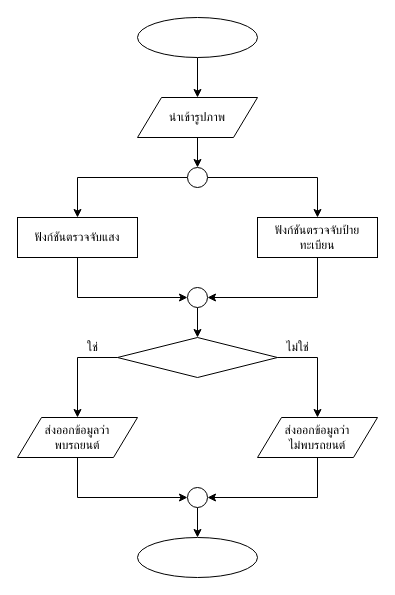
Image size: 395x595. Some labels were removed from this diagram. Each missing label, with the centre of its shape:
End: the point at 197,557
Start: the point at 197,37
เป็นจริงทั้งสองฟังก์ชัน: the point at 197,357
